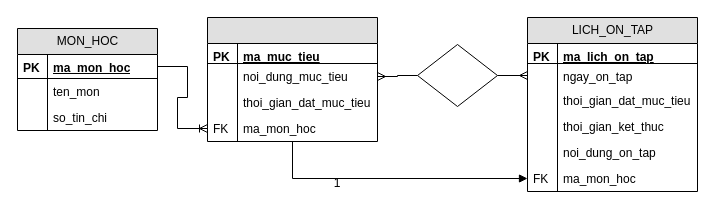
Image size: 715x216. Some labels were removed from this diagram. Each missing label, with the box of its shape:
Có lịch ôn tập: (416, 44, 498, 106)
MUC_TIEU_HOC_TAP: (206, 16, 378, 142)
